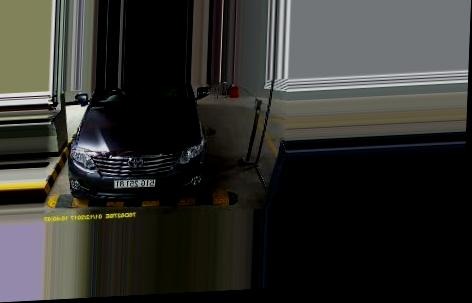License_Plate: (114, 176, 157, 190)
